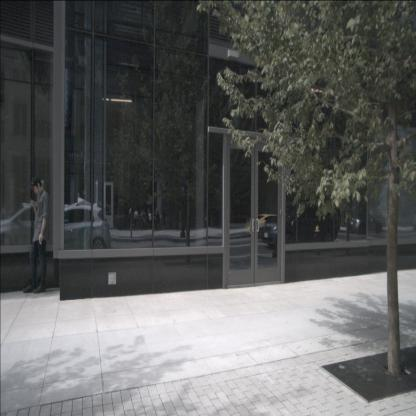human-pedestrian-adult: (23, 177, 50, 294)
vehicle-car: (37, 197, 111, 262), (262, 196, 339, 251), (0, 202, 66, 257), (347, 203, 382, 234), (248, 214, 282, 238)
